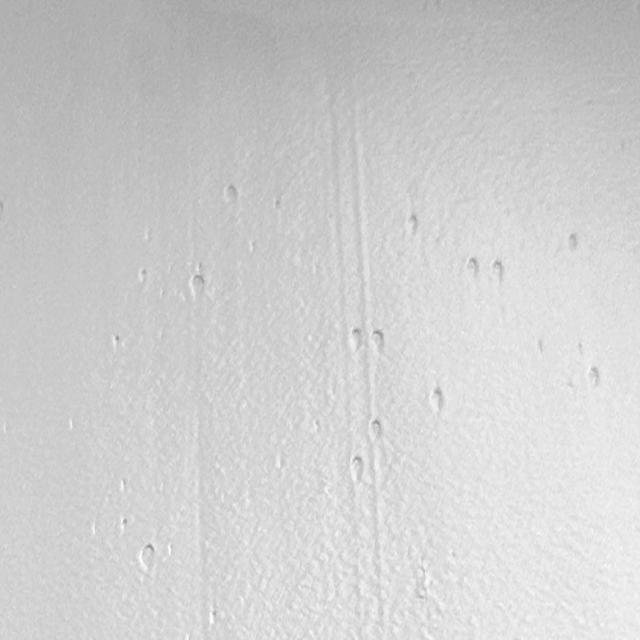pin holes: (136, 543, 158, 574), (427, 387, 448, 416), (344, 326, 365, 354), (188, 271, 208, 299), (585, 365, 605, 393), (220, 182, 241, 208), (462, 254, 482, 280), (404, 214, 423, 241), (489, 258, 508, 285), (371, 328, 390, 354), (562, 231, 581, 256), (347, 457, 365, 483), (368, 419, 386, 445), (106, 332, 124, 355), (208, 606, 221, 628), (134, 267, 148, 285), (116, 516, 130, 534), (534, 337, 546, 357), (312, 417, 324, 435), (163, 541, 175, 558), (117, 476, 128, 494), (270, 196, 282, 212), (246, 240, 258, 256)
